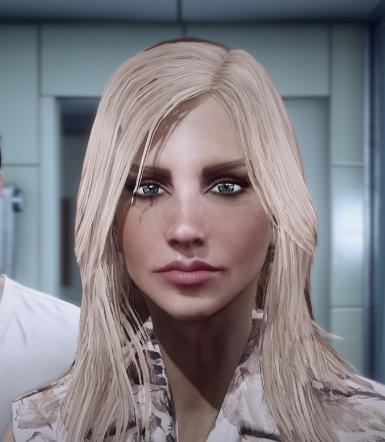Eyes: (201, 174, 250, 201), (126, 176, 174, 203)
